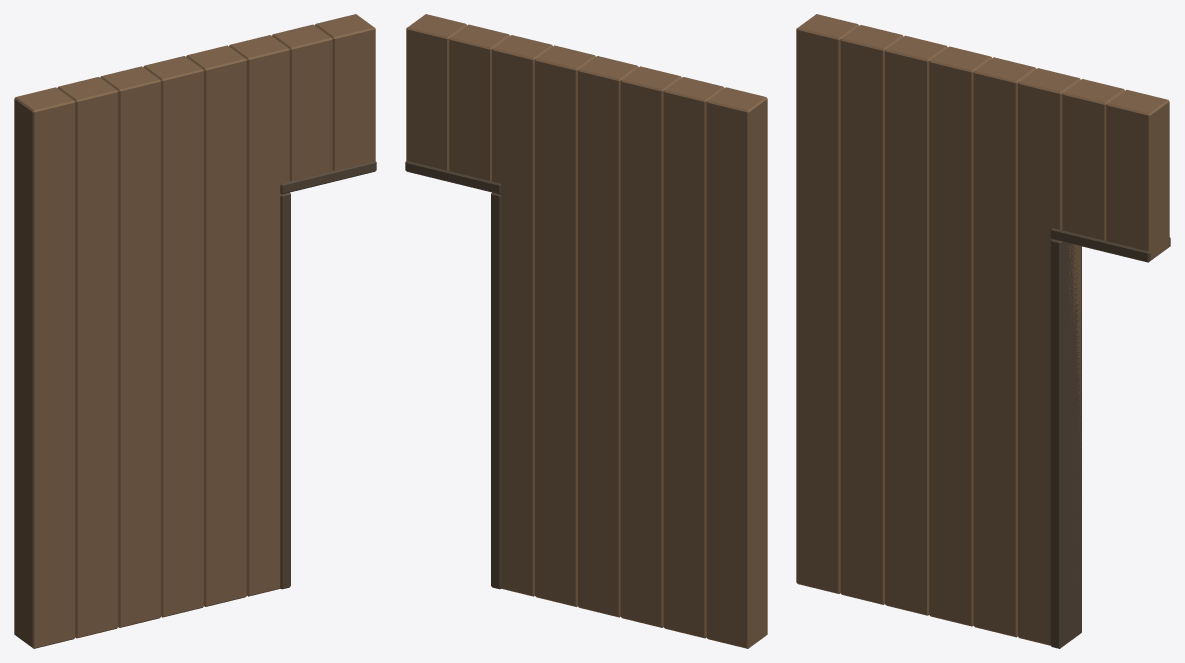
The model's file is SM_Wall_Door_Half.fbx.
The picture shows the model from 3 angles, left to right: view 1: azimuth 30°, elevation 25°; view 2: azimuth 150°, elevation 25°; view 3: azimuth 330°, elevation 25°; orthographic projection. The views are drawn at different scales.
Parts seen in each view (by area): view 1: SM_Wall_Door_Half; view 2: SM_Wall_Door_Half; view 3: SM_Wall_Door_Half.
Boxes of the visible parts, x1,y1,x2,y2 form: SM_Wall_Door_Half: [14, 14, 376, 648]; SM_Wall_Door_Half: [405, 14, 767, 648]; SM_Wall_Door_Half: [796, 14, 1170, 648].
Bounding box in the file's own units: 2 × 3 × 0.22.
